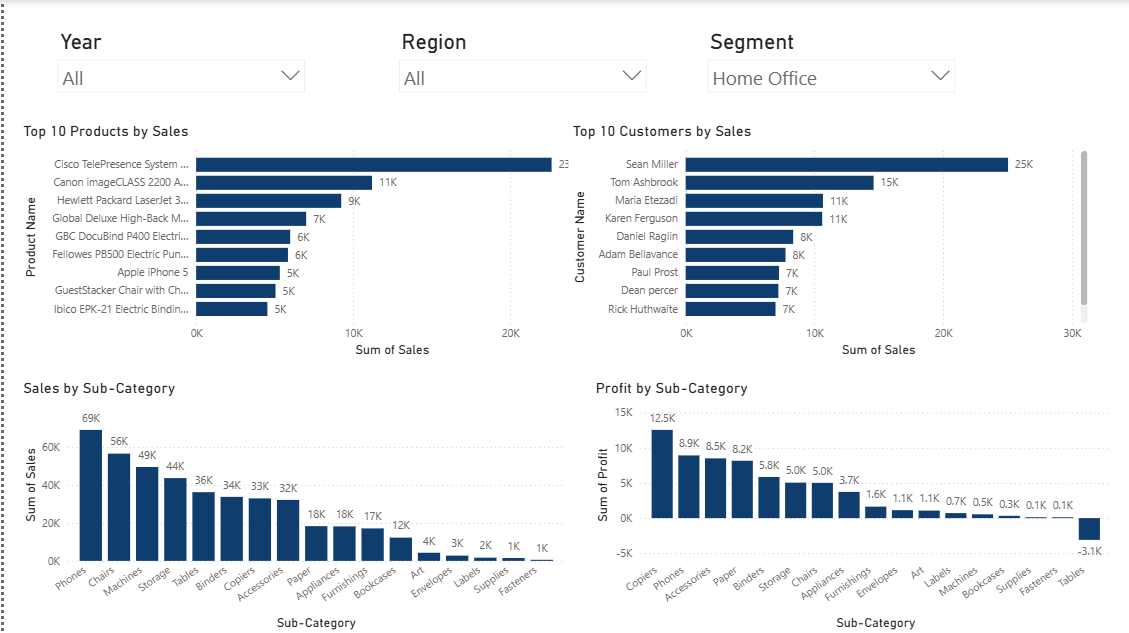

Layout of this report page (visuals, bound fields, positions):
{"tool":"powerbi","page":{"name":"Product & Customer Analysis","canvas":[1280,720],"ordinal":1},"visuals":[{"type":"clusteredBarChart","title":"Top 10 Products by Sales","fields":{"Category":["cleaned_superstore.Product Name"],"Y":["Sum(cleaned_superstore.Sales)"]},"box":[15.9,139,669.8,271.1],"z":0},{"type":"clusteredBarChart","title":"Top 10 Customers by Sales","fields":{"Category":["cleaned_superstore.Customer Name"],"Y":["Sum(cleaned_superstore.Sales)"]},"box":[640.2,139,594.6,271.1],"z":1},{"type":"clusteredColumnChart","title":"Sales by Sub-Category","fields":{"Category":["cleaned_superstore.Sub-Category"],"Y":["Sum(cleaned_superstore.Sales)"]},"box":[15.9,430.6,624.3,289.3],"z":2},{"type":"clusteredColumnChart","title":"Profit by Sub-Category","fields":{"Category":["cleaned_superstore.Sub-Category"],"Y":["Sum(cleaned_superstore.Profit)"]},"box":[667.6,430.6,594.6,289.3],"z":3},{"type":"slicer","fields":{"Values":["cleaned_superstore.Year"]},"box":[50.1,27.3,300.7,91.1],"z":4},{"type":"slicer","fields":{"Values":["cleaned_superstore.Region"]},"box":[437.4,27.3,300.7,91.1],"z":5},{"type":"slicer","fields":{"Values":["cleaned_superstore.Segment"]},"box":[788.3,27.3,300.7,91.1],"z":6}]}

Visuals, with their boxes in screenshot pixels (x1, y1, x2, y2), scaled from the page's 1280x720 canvas onto the 1129x633 screenshot:
"Top 10 Products by Sales" clusteredBarChart: Rect(14, 122, 605, 361)
"Top 10 Customers by Sales" clusteredBarChart: Rect(565, 122, 1089, 361)
"Sales by Sub-Category" clusteredColumnChart: Rect(14, 379, 565, 632)
"Profit by Sub-Category" clusteredColumnChart: Rect(589, 379, 1113, 632)
slicer - cleaned_superstore.Year: Rect(44, 24, 309, 104)
slicer - cleaned_superstore.Region: Rect(386, 24, 651, 104)
slicer - cleaned_superstore.Segment: Rect(695, 24, 961, 104)
